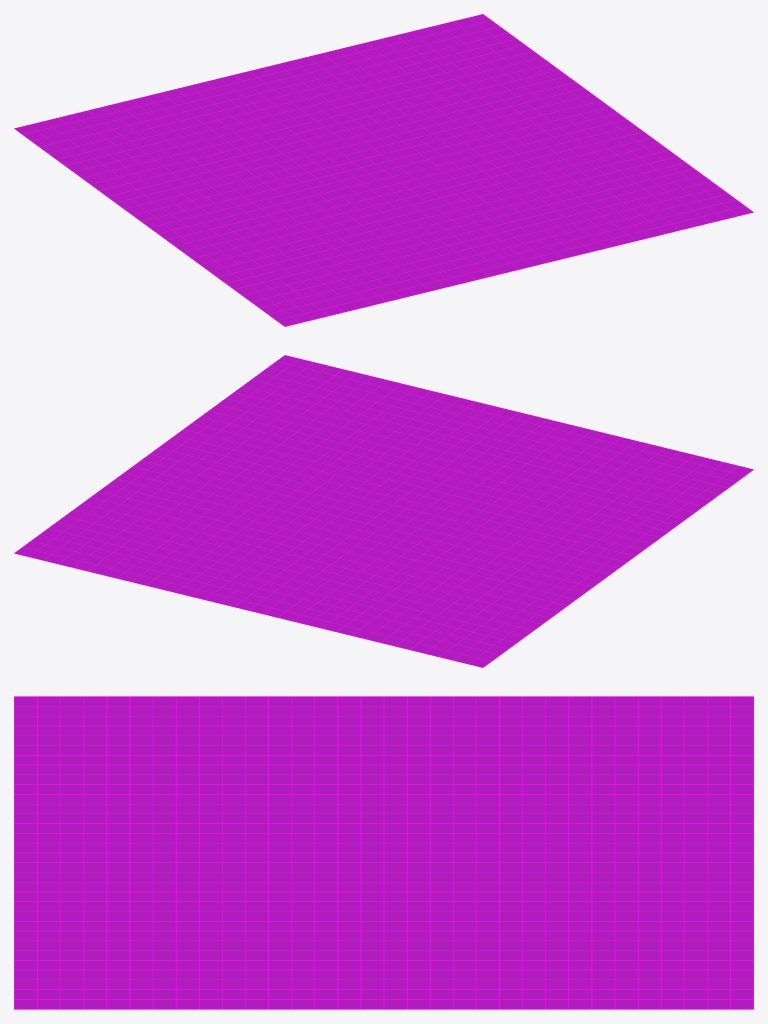
The model's file is Unused.fbx.
The picture shows the model from 3 angles, top to bottom: view 1: azimuth 30°, elevation 25°; view 2: azimuth 150°, elevation 25°; view 3: azimuth 270°, elevation 25°; orthographic projection. The views are drawn at different scales.
Parts seen in each view (by area): view 1: Cube; view 2: Cube; view 3: Cube.
Part boxes in pixels (box(x1,y1,x2,y2)): Cube: box(14, 14, 753, 326); Cube: box(14, 355, 753, 667); Cube: box(14, 696, 753, 1009).
Size of the model in its own units: 20022 by 16.74 by 20022.
